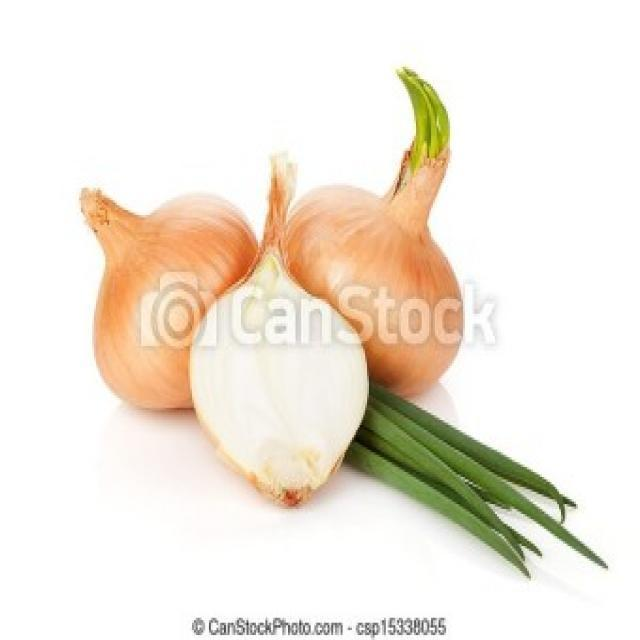onion: (61, 166, 258, 432), (296, 144, 484, 400), (180, 252, 358, 494)
